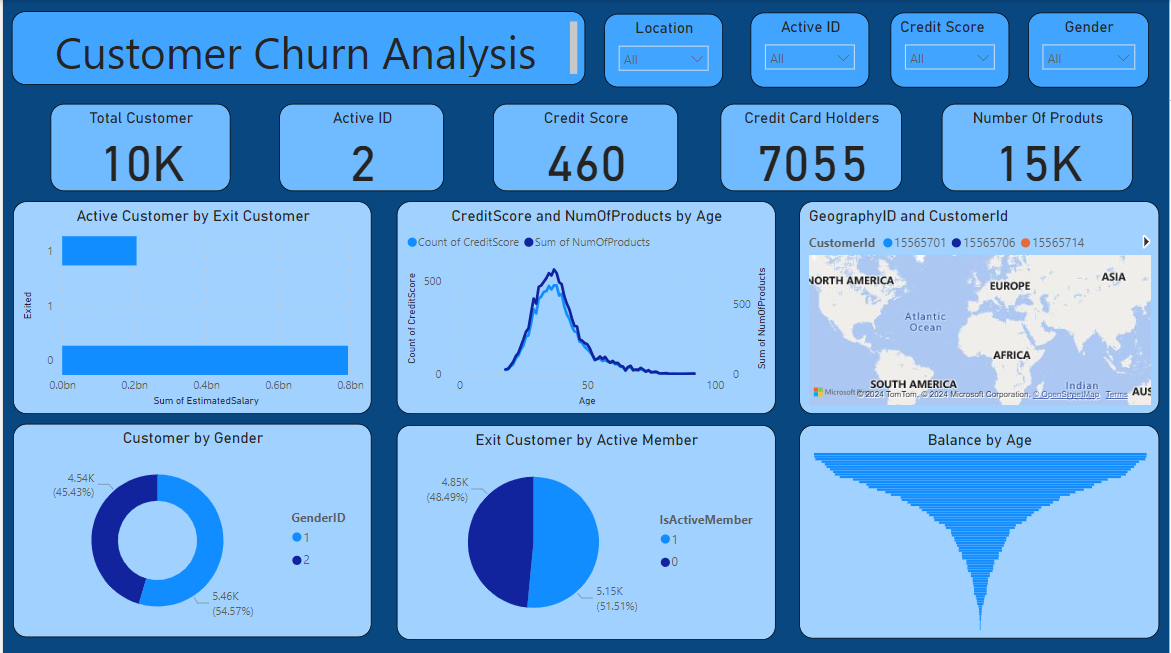

This screenshot's page, from the dashboard's own definition file:
{"tool":"powerbi","page":{"name":"Page 1","canvas":[1280,720],"ordinal":0},"visuals":[{"type":"textbox","box":[9.6,12.3,629.8,81],"z":0},{"type":"card","title":"Total Customer","fields":{"Values":["CountNonNull(Bank_Churn.CustomerId)"]},"box":[52.1,113.9,197.6,96.1],"z":1000},{"type":"card","title":"Active ID","fields":{"Values":["CountNonNull(ActiveCustomer.ActiveID)"]},"box":[303.3,113.9,181.1,96.1],"z":2000},{"type":"card","title":"Credit Score","fields":{"Values":["Count(Bank_Churn.CreditScore)"]},"box":[537.9,113.9,203.1,96.1],"z":3000},{"type":"card","title":"Credit Card Holders","fields":{"Values":["Sum(Bank_Churn.HasCrCard)"]},"box":[787.7,113.9,199,96.1],"z":4000},{"type":"card","title":"Number Of Produts","fields":{"Values":["Sum(Bank_Churn.NumOfProducts)"]},"box":[1030.5,113.9,209.9,96.1],"z":5000},{"type":"funnel","title":"Balance by Age","fields":{"Category":["Bank_Churn.Age"],"Y":["CountNonNull(Bank_Churn.Balance)"]},"box":[874.1,466.6,395.2,234.6],"z":6000},{"type":"donutChart","title":"Customer  by Gender ","fields":{"Category":["Gender.GenderID"],"Y":["CountNonNull(Bank_Churn.CustomerId)"]},"box":[11,465.2,393.8,234.6],"z":7000},{"type":"lineChart","title":"CreditScore and NumOfProducts by Age","fields":{"Category":["Bank_Churn.Age"],"Y":["CountNonNull(Bank_Churn.CreditScore)"],"Y2":["Sum(Bank_Churn.NumOfProducts)"]},"box":[432.2,220.9,415.8,233.3],"z":8000},{"type":"pieChart","title":"Exit Customer by Active Member","fields":{"Category":["Bank_Churn.IsActiveMember"],"Y":["CountNonNull(Bank_Churn.Exited)"]},"box":[432.2,466.6,415.8,236],"z":9000},{"type":"filledMap","fields":{"Category":["Bank_Churn.GeographyID"],"Series":["Bank_Churn.CustomerId"]},"box":[874.1,220.9,395.2,233.3],"z":10000},{"type":"slicer","title":"Location","fields":{"Values":["Bank_Churn.GeographyID"]},"box":[660,15.1,130.4,81],"z":11000},{"type":"barChart","title":" Active Customer by Exit Customer","fields":{"Y":["Sum(Bank_Churn.EstimatedSalary)"],"Category":["Bank_Churn.Exited"]},"box":[11,220.9,393.8,233.3],"z":12000},{"type":"slicer","title":"Active ID","fields":{"Values":["ActiveCustomer.ActiveID"]},"box":[820.6,13.7,130.4,82.3],"z":13000},{"type":"slicer","title":"Credit Score","fields":{"Values":["Bank_Churn.CreditScore"]},"box":[974.3,13.7,130.4,82.3],"z":14000},{"type":"slicer","title":"Gender","fields":{"Values":["Bank_Churn.GenderID"]},"box":[1125.2,13.7,133.1,82.3],"z":15000}]}

Visuals, with their boxes in screenshot pixels (x1, y1, x2, y2), scaled from the page's 1280x720 canvas onto the 1171x653 screenshot:
textbox: Rect(9, 11, 585, 85)
"Total Customer" card: Rect(48, 103, 228, 190)
"Active ID" card: Rect(277, 103, 443, 190)
"Credit Score" card: Rect(492, 103, 678, 190)
"Credit Card Holders" card: Rect(721, 103, 903, 190)
"Number Of Produts" card: Rect(943, 103, 1135, 190)
"Balance by Age" funnel: Rect(800, 423, 1161, 636)
"Customer  by Gender " donutChart: Rect(10, 422, 370, 635)
"CreditScore and NumOfProducts by Age" lineChart: Rect(395, 200, 776, 412)
"Exit Customer by Active Member" pieChart: Rect(395, 423, 776, 637)
filledMap - Bank_Churn.GeographyID x Bank_Churn.CustomerId: Rect(800, 200, 1161, 412)
"Location" slicer: Rect(604, 14, 723, 87)
" Active Customer by Exit Customer" barChart: Rect(10, 200, 370, 412)
"Active ID" slicer: Rect(751, 12, 870, 87)
"Credit Score" slicer: Rect(891, 12, 1011, 87)
"Gender" slicer: Rect(1029, 12, 1151, 87)
